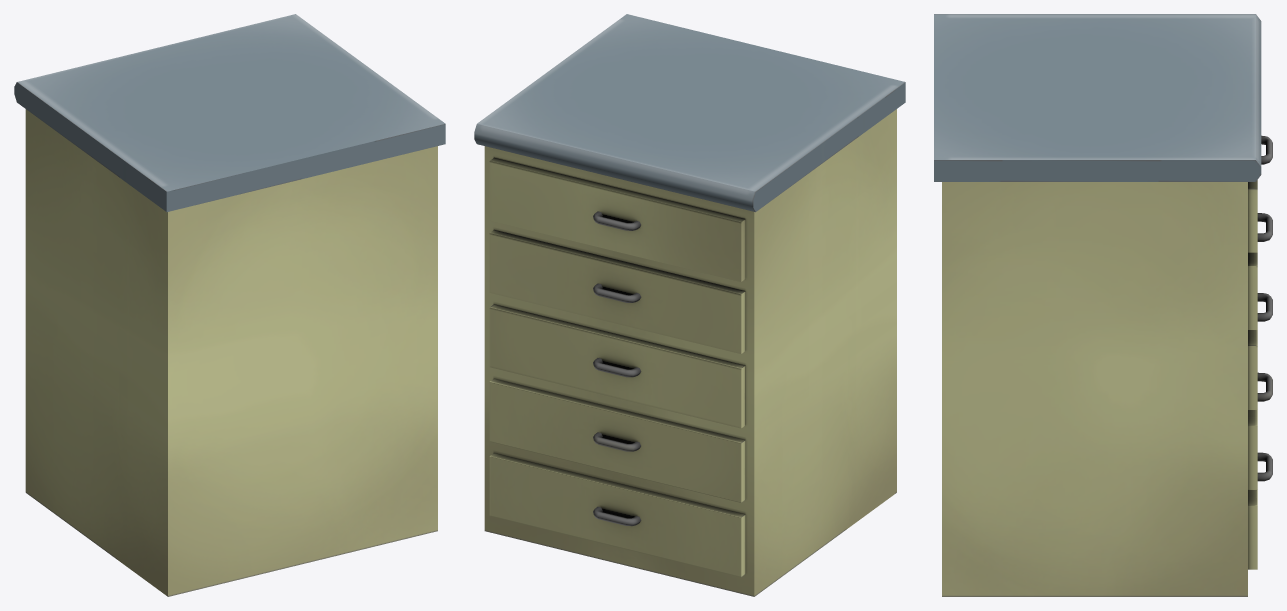
The model's file is drawer2.fbx.
The picture shows the model from 3 angles, left to right: view 1: azimuth 30°, elevation 25°; view 2: azimuth 150°, elevation 25°; view 3: azimuth 270°, elevation 25°; orthographic projection. The views are drawn at different scales.
Parts seen in each view (by area): view 1: drawers; view 2: drawers; view 3: drawers.
Part boxes in pixels (bbox=[...]): drawers: bbox=[14, 14, 445, 596]; drawers: bbox=[474, 14, 905, 596]; drawers: bbox=[934, 14, 1272, 596].
Bounding box in the file's own units: 131 × 183 × 128.
Materials: 1 (1 with a texture image).
